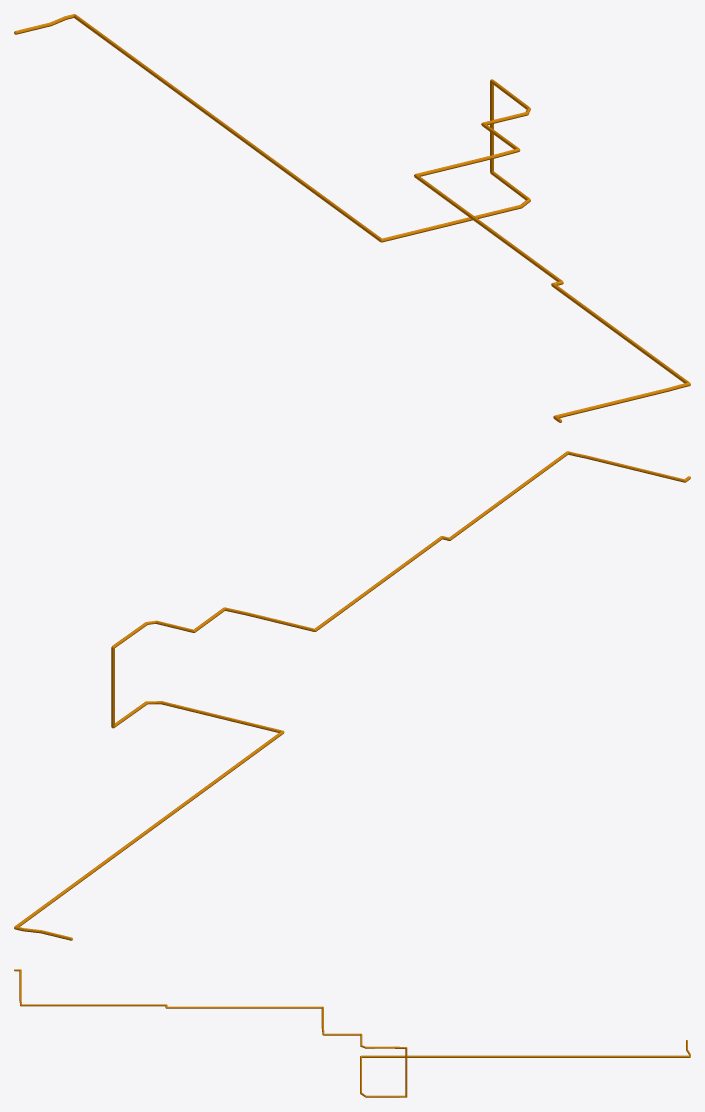
3 renders of one model, top to bottom at view 1: azimuth 30°, elevation 25°; view 2: azimuth 150°, elevation 25°; view 3: azimuth 270°, elevation 25°, orthographic. The views are drawn at different scales.
Size of the model in its own units: 1723 by 520 by 6278.
